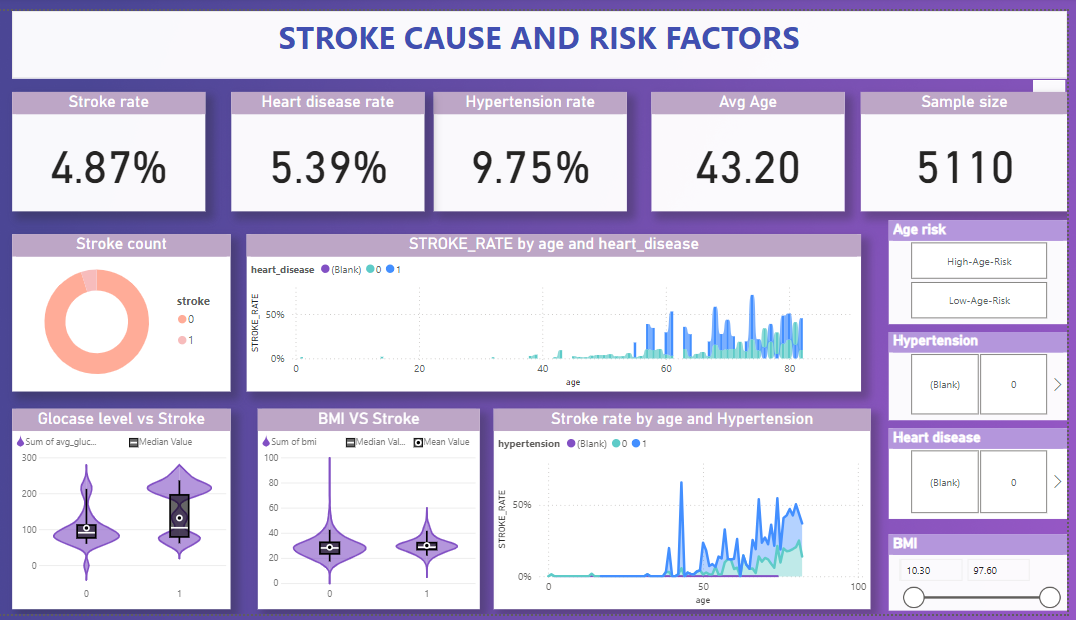

The dashboard page shown, as its layout file describes it:
{"tool":"powerbi","page":{"name":"Dahboard","canvas":[1280,720],"ordinal":11},"visuals":[{"type":"textbox","box":[21.6,0,1258.5,80.7],"z":0},{"type":"card","title":"Stroke rate","fields":{"Values":["ALL MEASURES.STROKE_AVG"]},"box":[21.6,96.6,230.7,142.7],"z":1000},{"type":"card","title":"Hypertension rate","fields":{"Values":["ALL MEASURES.HYPERTENSION_RATE"]},"box":[524.7,96.6,230.7,142.7],"z":2000},{"type":"card","title":"Heart disease rate","fields":{"Values":["ALL MEASURES.Heart_desease_rate"]},"box":[282.5,96.6,230.7,142.7],"z":3000},{"type":"card","title":"Avg Age","fields":{"Values":["Avg(General_Details_table.age)"]},"box":[784.2,96.6,230.7,142.7],"z":4000},{"type":"card","title":"Sample size","fields":{"Values":["CountNonNull(General_Details_table.id)"]},"box":[1035.1,96.6,245.1,142.7],"z":5000},{"type":"slicer","title":"Age risk","fields":{"Values":["General_Details_table.AGE_RISK"]},"box":[1068.2,249.4,211.9,124],"z":6000},{"type":"slicer","title":"Hypertension","fields":{"Values":["Risk_Factors_Table.hypertension"]},"box":[1068.2,383.5,211.9,105.2],"z":7000},{"type":"slicer","title":"Heart disease","fields":{"Values":["Risk_Factors_Table.heart_disease"]},"box":[1068.2,498.8,211.9,108.1],"z":8000},{"type":"slicer","title":"BMI","fields":{"Values":["Risk_Factors_Table.bmi"]},"box":[1068.2,624.2,211.9,90.8],"z":9000},{"type":"donutChart","title":"Stroke count","fields":{"Category":["Risk_Factors_Table.stroke"],"Y":["CountNonNull(Risk_Factors_Table.Patient_id)"]},"box":[21.6,266.7,260.9,187.4],"z":10000},{"type":"ribbonChart","fields":{"Y":["ALL MEASURES.STROKE_RATE"],"Category":["General_Details_table.age"],"Series":["Risk_Factors_Table.heart_disease"]},"box":[301.3,266.7,733.8,187.4],"z":11000},{"type":"stackedAreaChart","title":"Stroke rate by age and Hypertension","fields":{"Category":["General_Details_table.age"],"Series":["Risk_Factors_Table.hypertension"],"Y":["ALL MEASURES.STROKE_RATE"]},"box":[596.8,475.7,449.8,239.3],"z":12000},{"type":"violinPlot4D46EB9EB3A141D9BA2289793175D971","title":"Glocase level vs Stroke","fields":{"sampling":["General_Details_table.id"],"category":["Risk_Factors_Table.stroke"],"measure":["Sum(Risk_Factors_Table.avg_glucose_level)"]},"box":[21.6,475.7,260.9,239.3],"z":13000},{"type":"violinPlot4D46EB9EB3A141D9BA2289793175D971","title":"BMI VS Stroke","fields":{"sampling":["General_Details_table.id"],"category":["Risk_Factors_Table.stroke"],"measure":["Sum(Risk_Factors_Table.bmi)"]},"box":[314.3,475.7,265.3,239.3],"z":14000}]}

Visuals, with their boxes in screenshot pixels (x1, y1, x2, y2), scaled from the page's 1280x720 canvas onto the 1076x620 screenshot:
textbox: 18 0 1075 69
"Stroke rate" card: 18 83 212 206
"Hypertension rate" card: 441 83 635 206
"Heart disease rate" card: 237 83 431 206
"Avg Age" card: 659 83 853 206
"Sample size" card: 870 83 1075 206
"Age risk" slicer: 898 215 1075 322
"Hypertension" slicer: 898 330 1075 421
"Heart disease" slicer: 898 430 1075 523
"BMI" slicer: 898 538 1075 616
"Stroke count" donutChart: 18 230 237 391
ribbonChart - ALL MEASURES.STROKE_RATE x General_Details_table.age: 253 230 870 391
"Stroke rate by age and Hypertension" stackedAreaChart: 502 410 880 616
"Glocase level vs Stroke" violinPlot4D46EB9EB3A141D9BA2289793175D971: 18 410 237 616
"BMI VS Stroke" violinPlot4D46EB9EB3A141D9BA2289793175D971: 264 410 487 616
